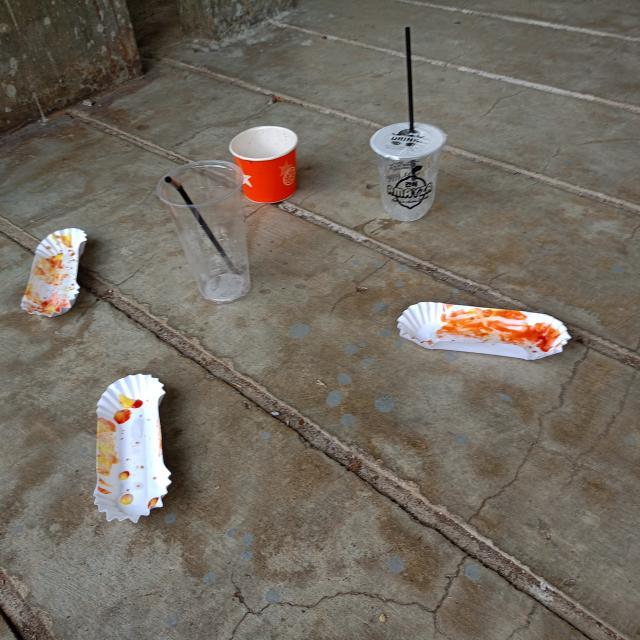recyclable waste: (76, 362, 190, 530), (150, 152, 260, 309), (393, 296, 576, 366), (364, 112, 456, 230), (220, 117, 308, 215), (17, 222, 96, 325)
